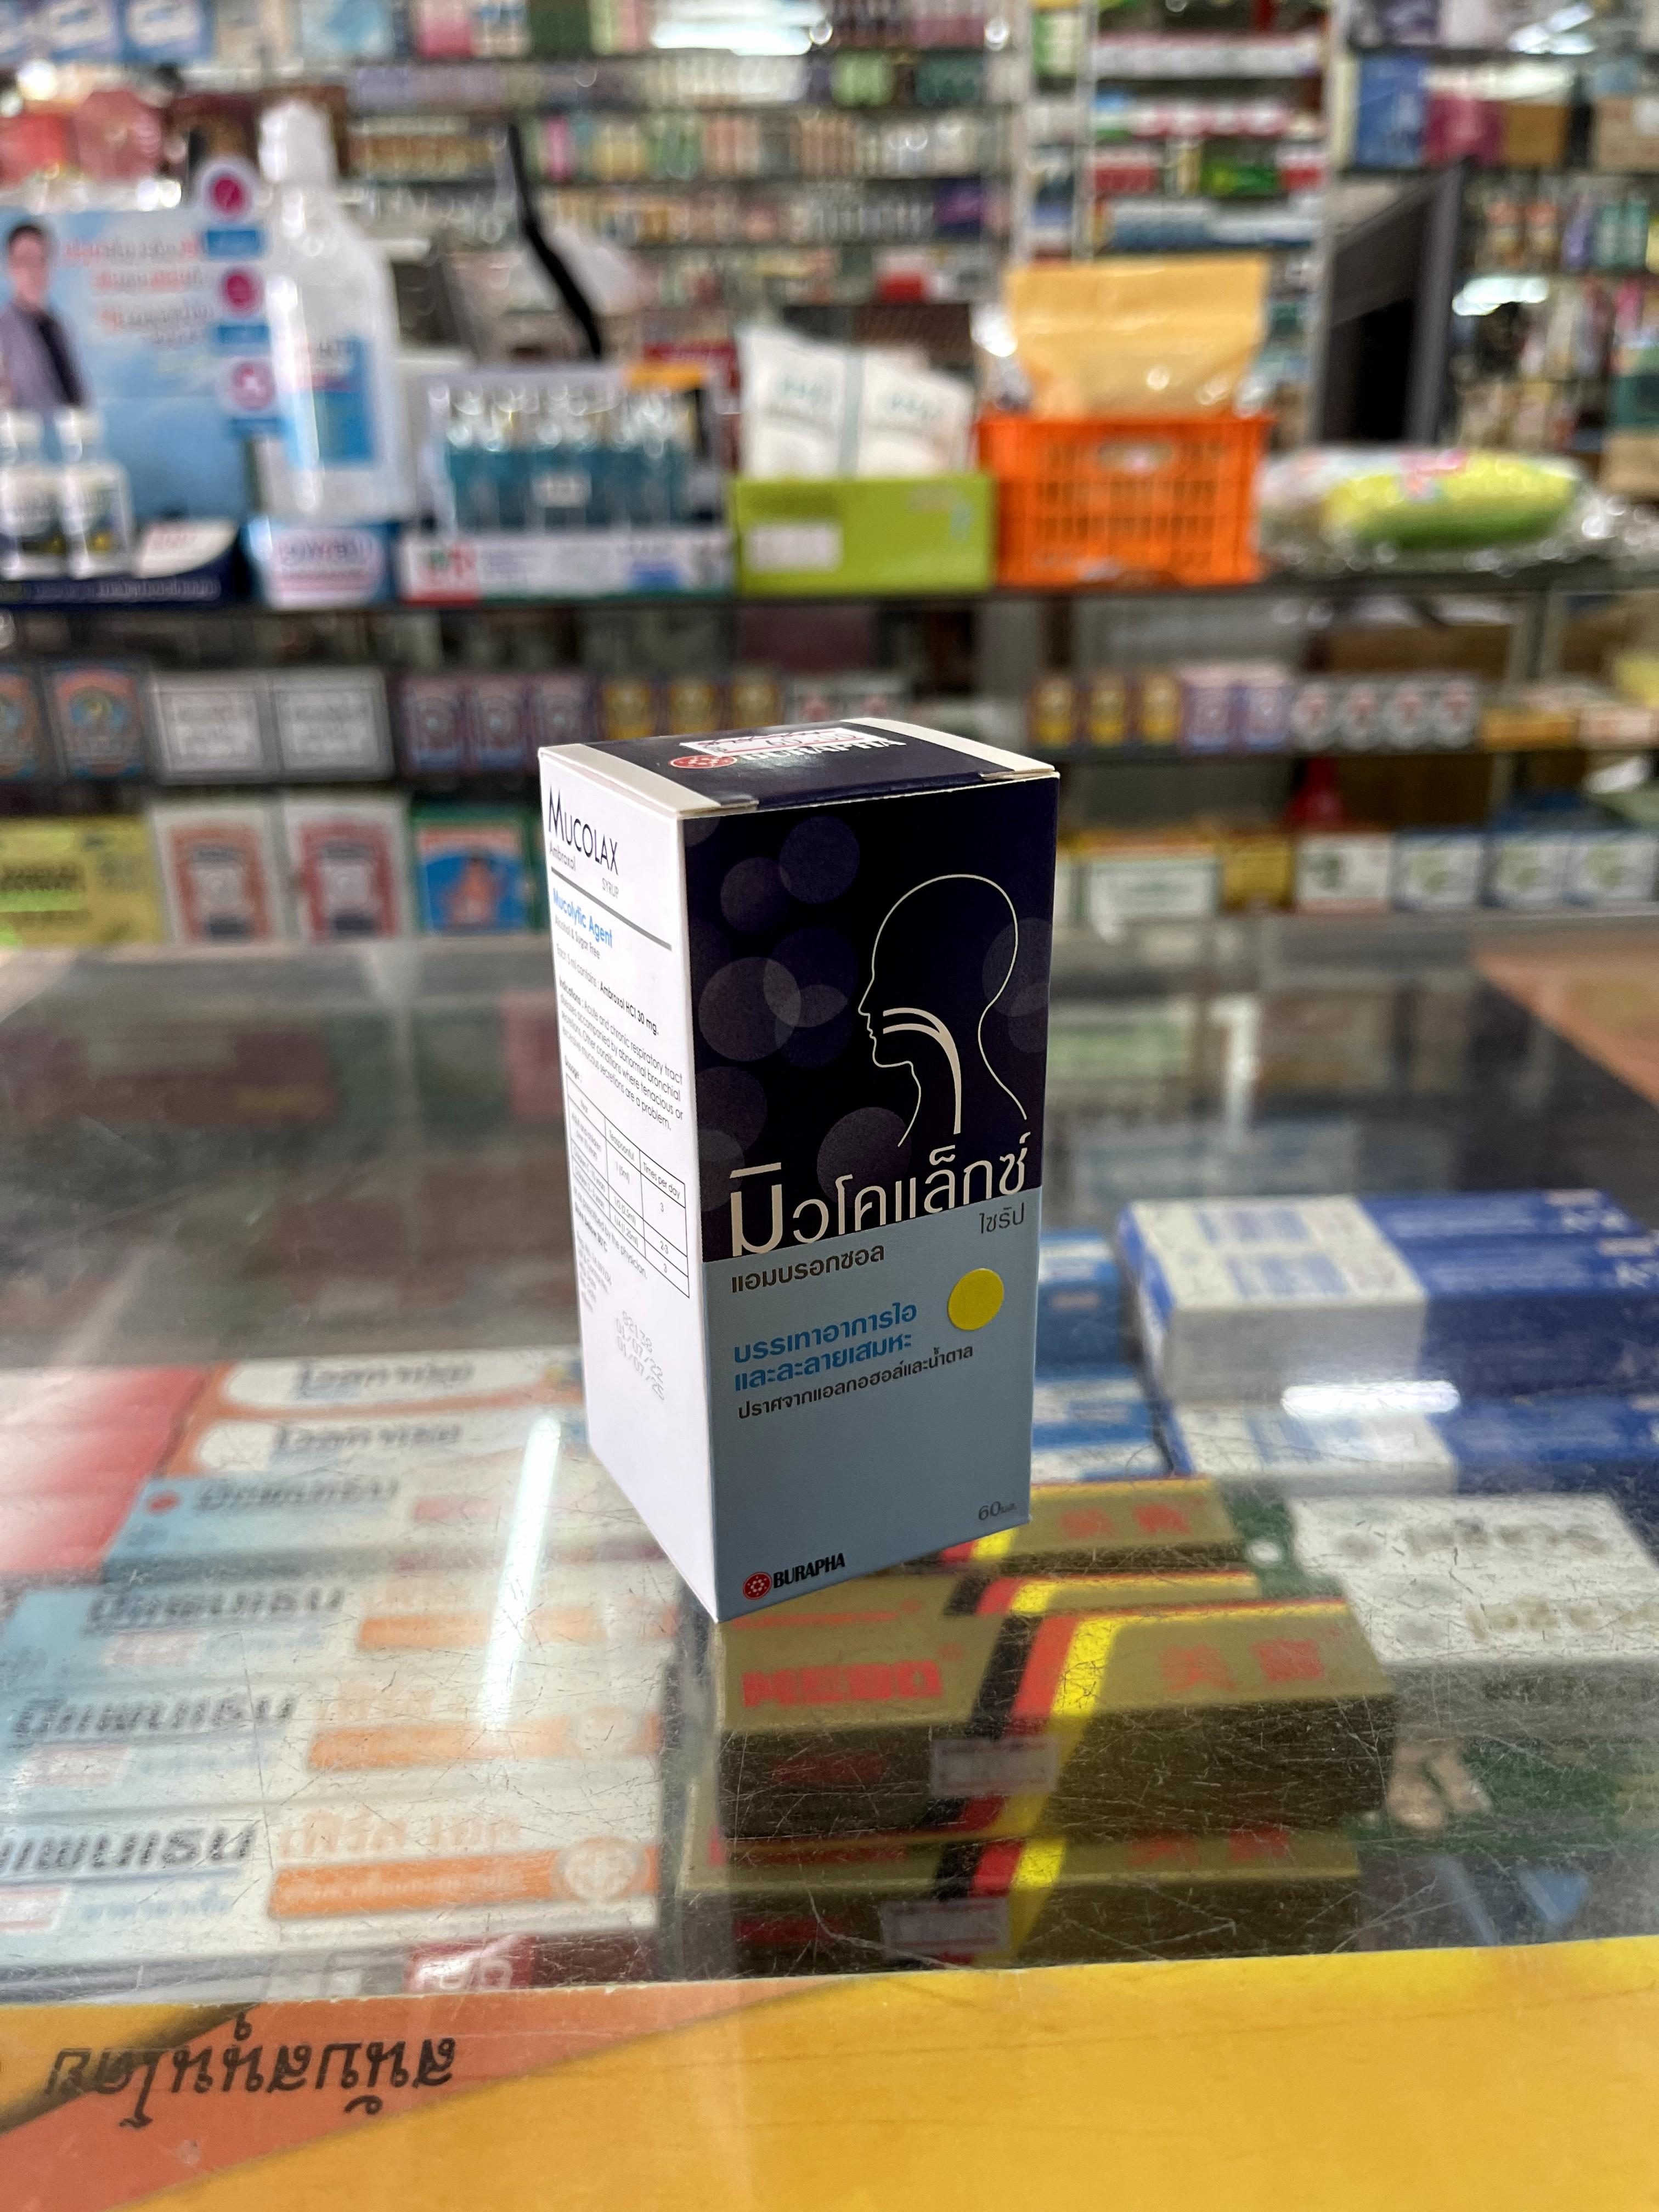Mucolax: (533, 712, 1068, 1630)
